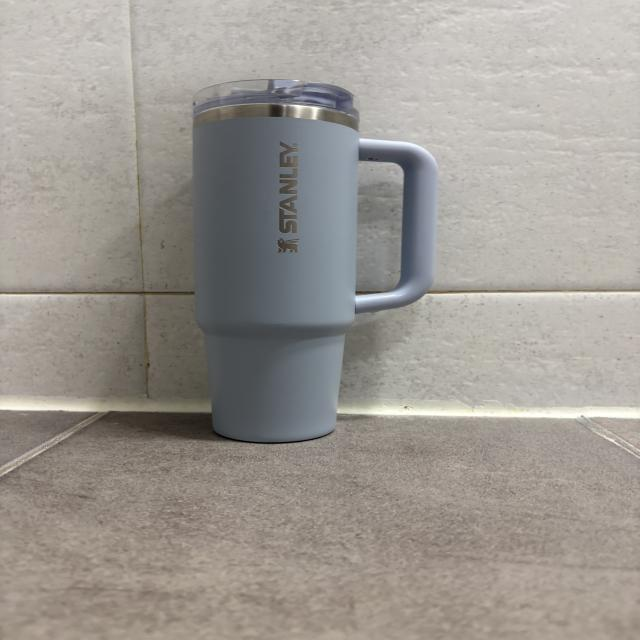waterbottle: (191, 79, 437, 442)
